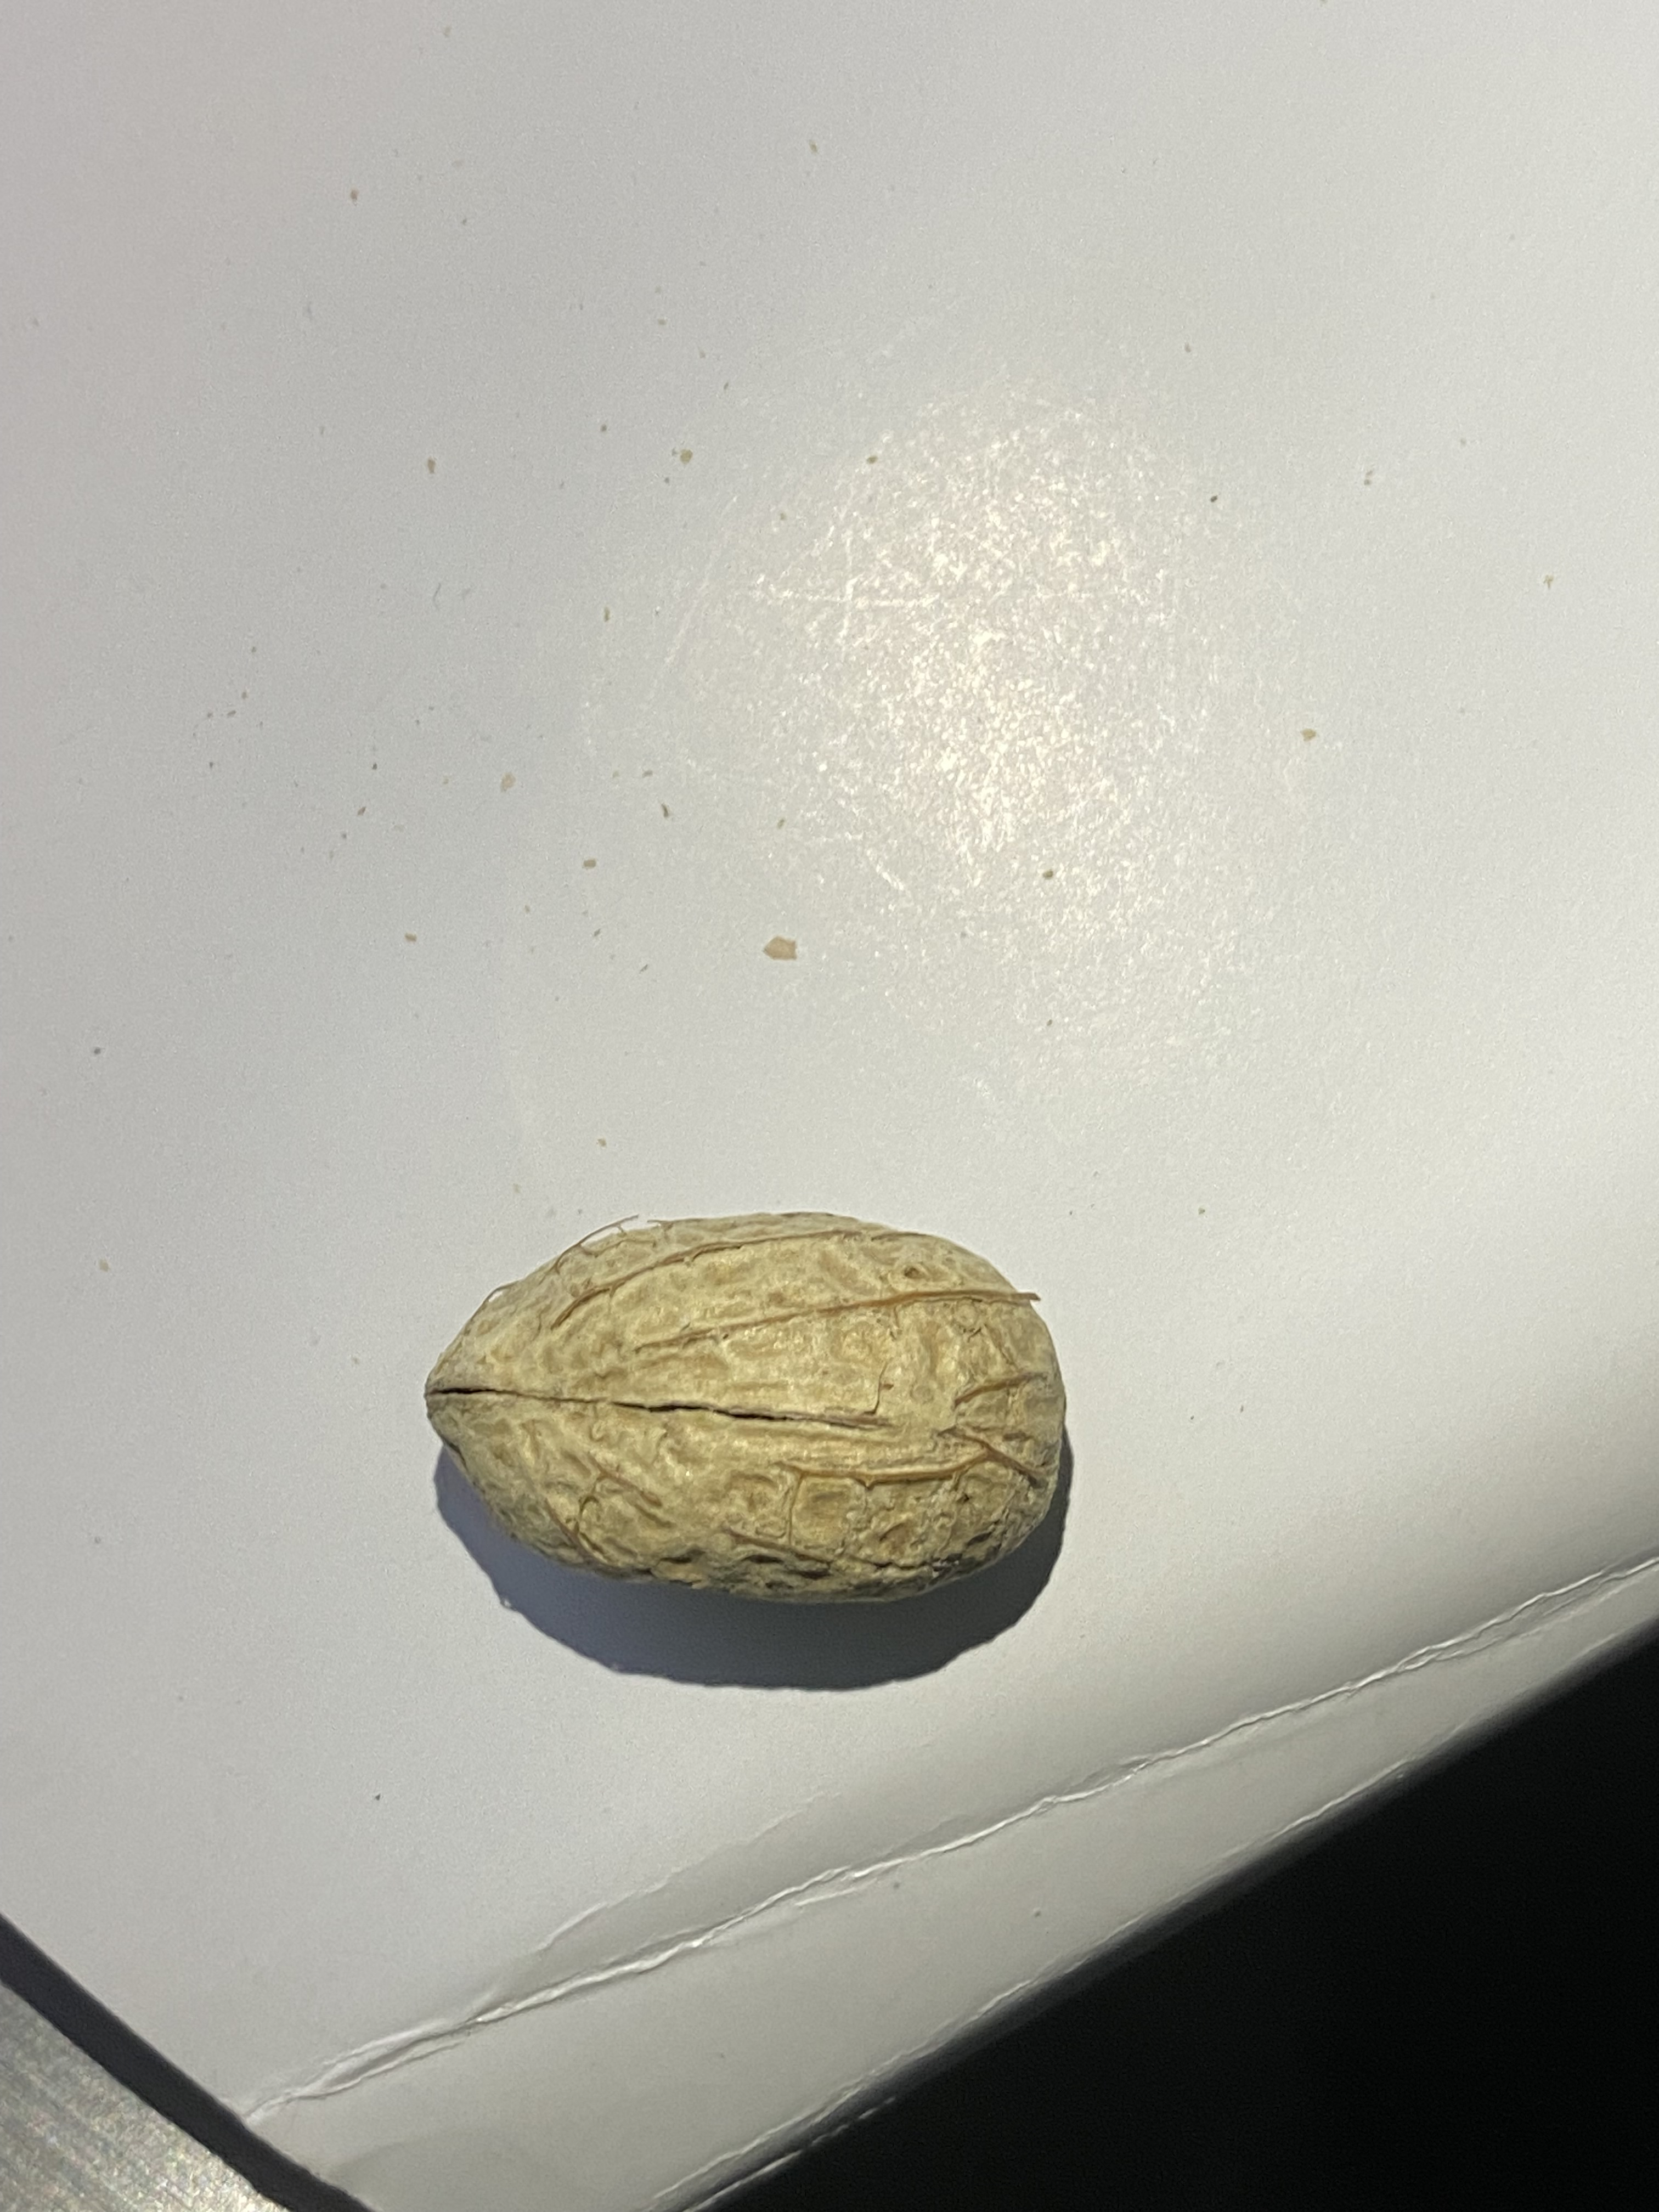kacang1: (389, 1198, 1101, 1676)
